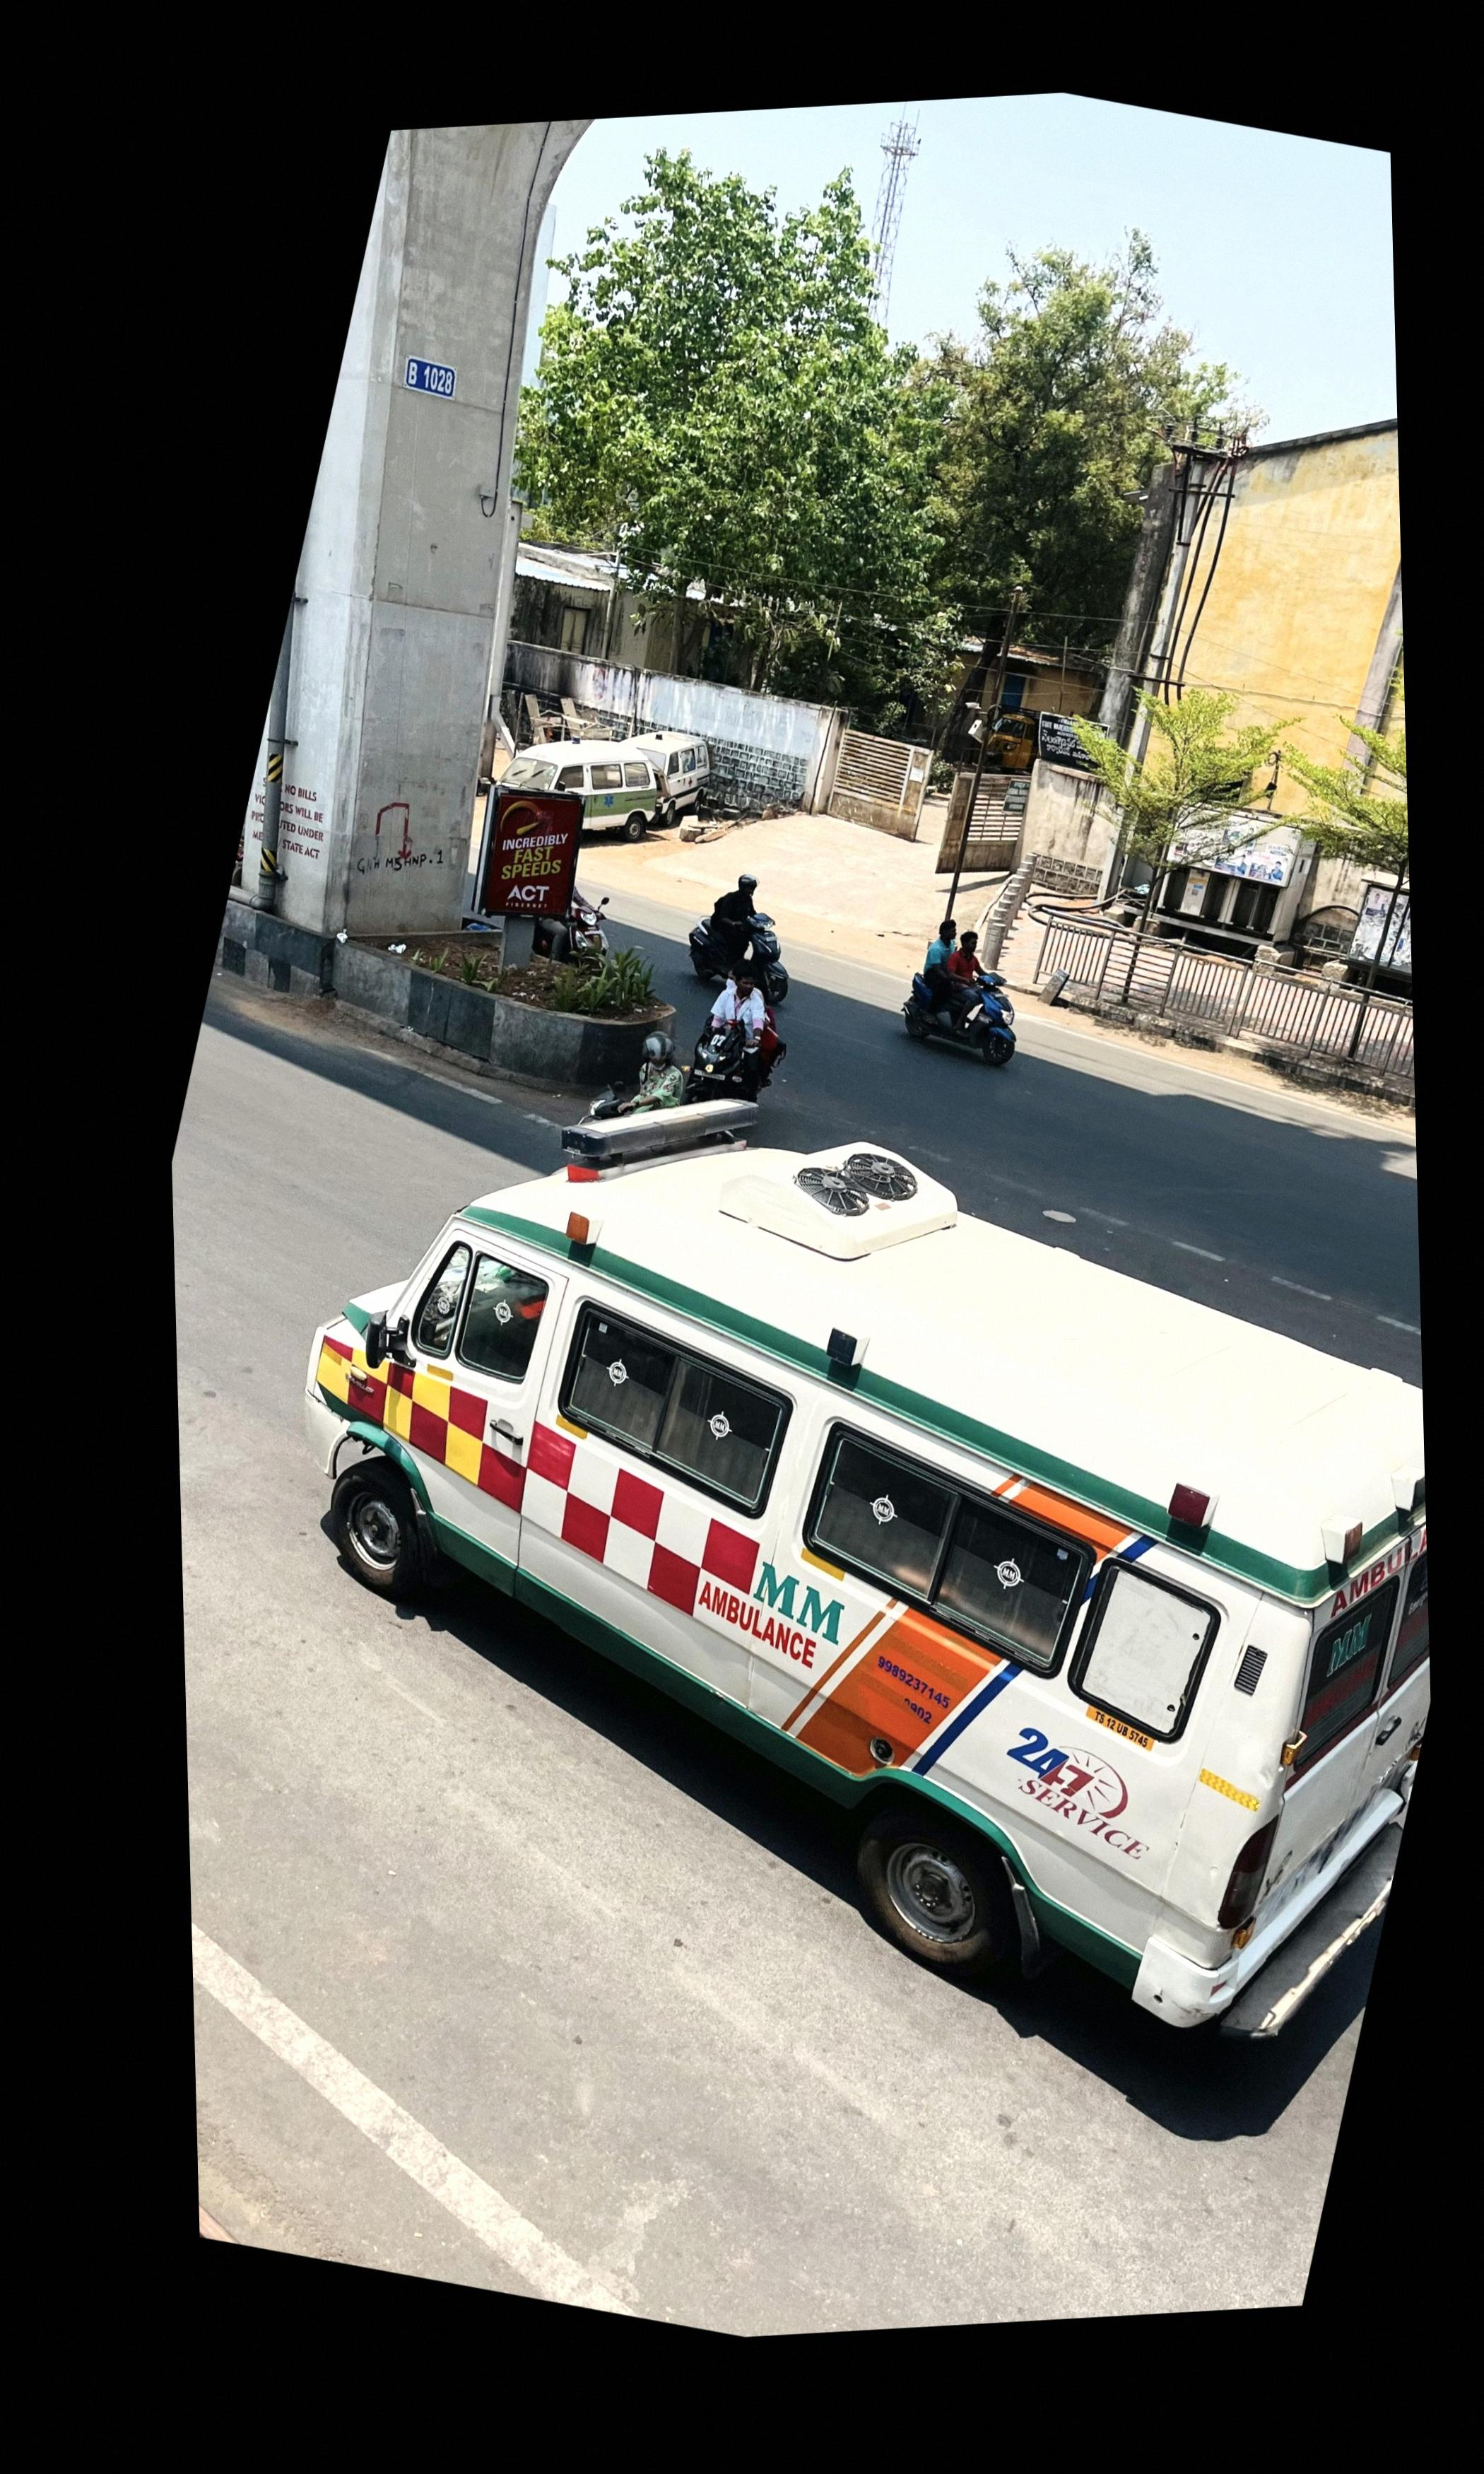ambulance: (307, 1127, 1431, 2043)
